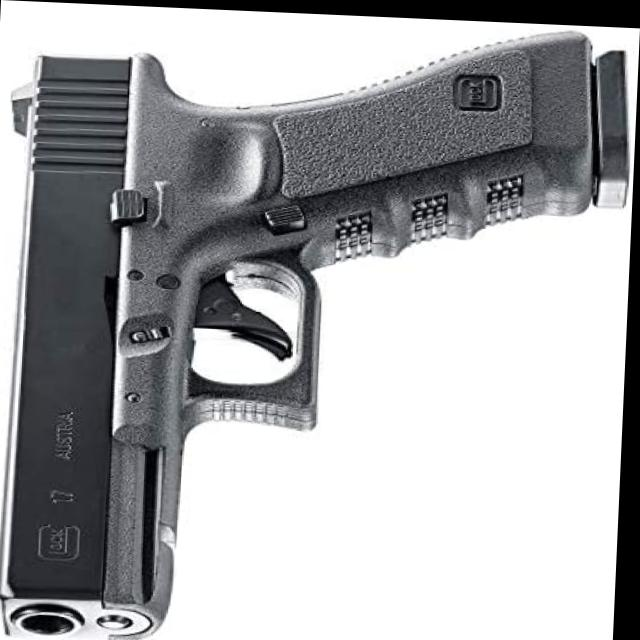handgun: (0, 9, 636, 640)
